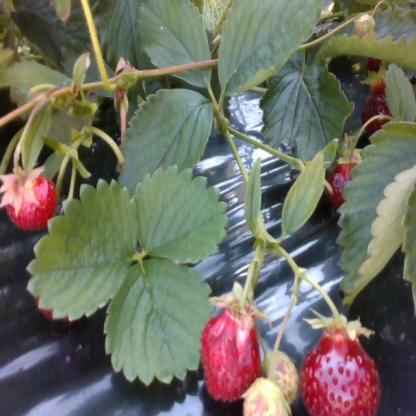ripe: (300, 330, 382, 414), (203, 311, 265, 400), (0, 165, 58, 231), (361, 73, 416, 139), (333, 157, 366, 205)
